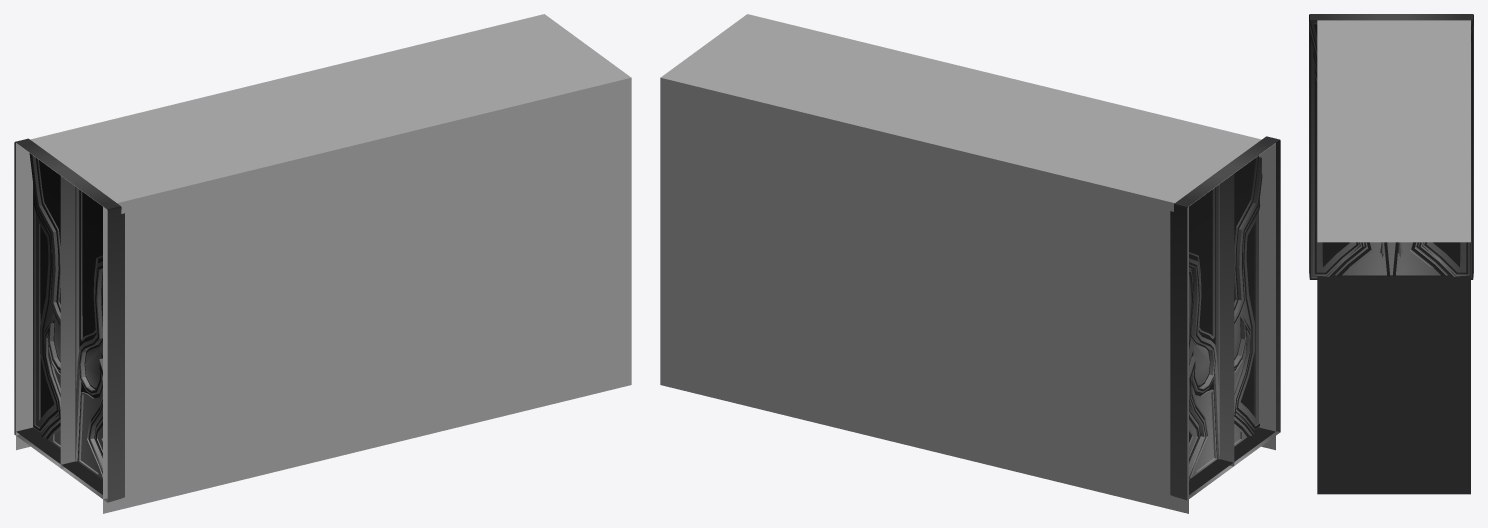
The model's file is TransitionPaintingChess.fbx.
3 renders of one model, left to right at view 1: azimuth 30°, elevation 25°; view 2: azimuth 150°, elevation 25°; view 3: azimuth 270°, elevation 25°, orthographic. The views are drawn at different scales.
Parts seen in each view (by area): view 1: Cube.071, gate.001, floor.008; view 2: Cube.071, gate.001, floor.008; view 3: Cube.071, floor.008, gate.001.
Boxes of the visible parts, x1=… form: Cube.071: x1=16, y1=14, x2=631, y2=513; gate.001: x1=14, y1=138, x2=124, y2=502; floor.008: x1=16, y1=427, x2=102, y2=494; Cube.071: x1=660, y1=14, x2=1275, y2=513; gate.001: x1=1170, y1=136, x2=1280, y2=500; floor.008: x1=1189, y1=427, x2=1275, y2=494; Cube.071: x1=1317, y1=20, x2=1470, y2=242; floor.008: x1=1317, y1=275, x2=1470, y2=494; gate.001: x1=1309, y1=14, x2=1473, y2=279.
Size of the model in its own units: 3599 by 2002 by 1099.
Materials: 2 (2 with a texture image).
